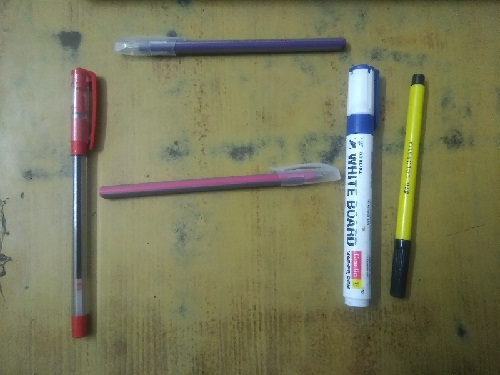pen: (100, 157, 342, 203), (385, 68, 433, 299), (339, 61, 379, 312), (64, 65, 99, 346), (109, 31, 351, 56)
